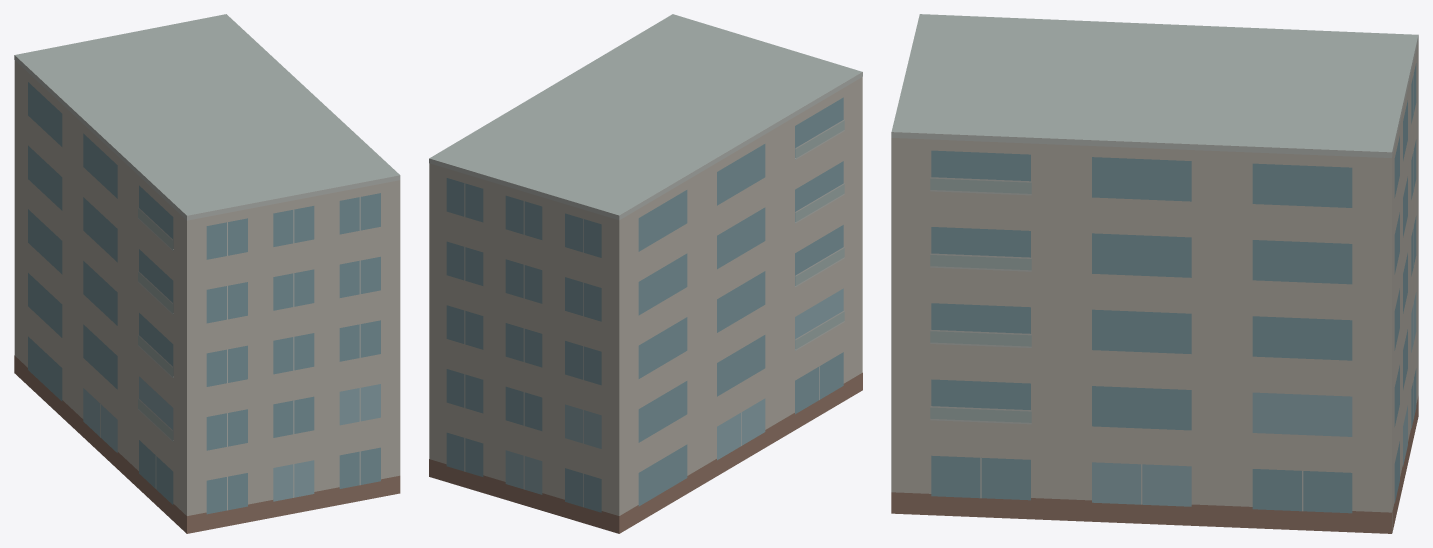
Rendered from survey-upis-32924474.glb.
3 renders of one model, left to right at view 1: azimuth 30°, elevation 25°; view 2: azimuth 150°, elevation 25°; view 3: azimuth 270°, elevation 25°, orthographic. The views are drawn at different scales.
Parts seen in each view (by area): view 1: survey-upis-32924474.tmp; view 2: survey-upis-32924474.tmp; view 3: survey-upis-32924474.tmp.
Boxes of the visible parts, bbox=[...] form: survey-upis-32924474.tmp: bbox=[14, 14, 400, 533]; survey-upis-32924474.tmp: bbox=[429, 14, 862, 533]; survey-upis-32924474.tmp: bbox=[891, 14, 1418, 533].
Bounding box in the file's own units: 12.45 × 16 × 20.04.
